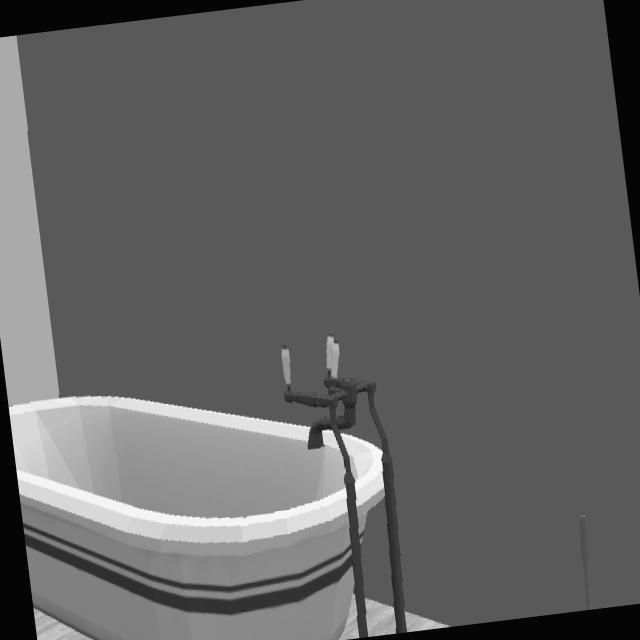bathtube: (9, 338, 406, 640)
